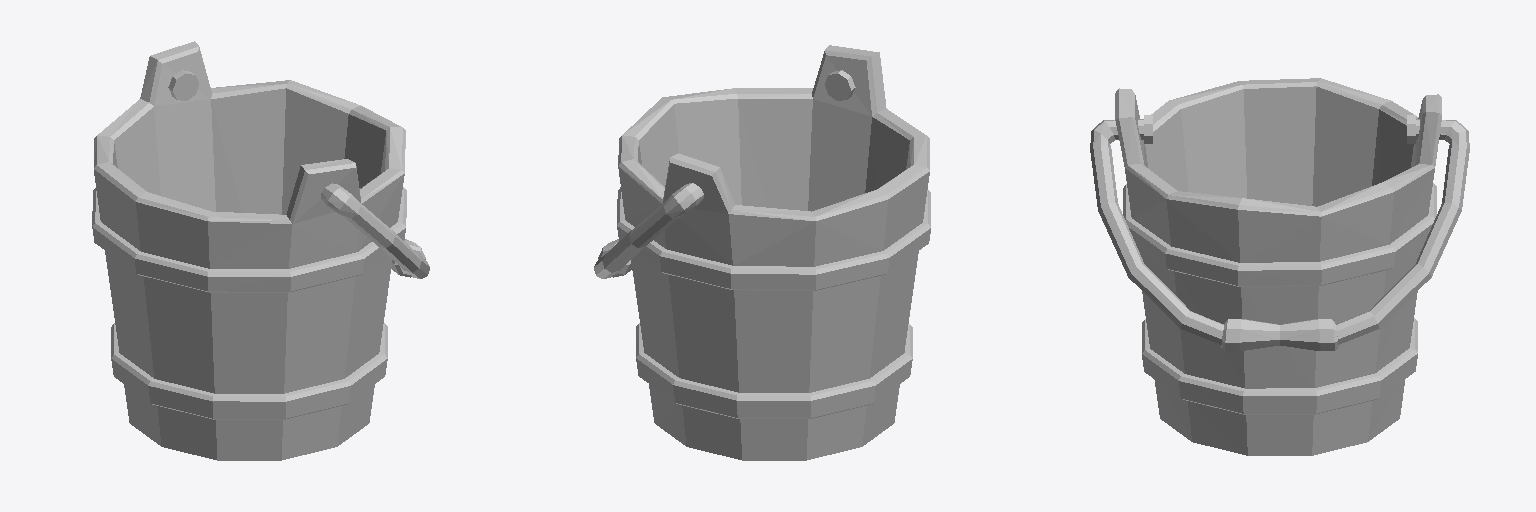
Rendered from Stylized_Bucket.obj.
3 renders of one model, left to right at view 1: azimuth 30°, elevation 25°; view 2: azimuth 150°, elevation 25°; view 3: azimuth 270°, elevation 25°, orthographic.
Visible parts, largest first — view 1: Bucket_Cylinder.011; view 2: Bucket_Cylinder.011; view 3: Bucket_Cylinder.011.
Part boxes in pixels (x1,y1,x2,y2): Bucket_Cylinder.011: (92,41,429,460); Bucket_Cylinder.011: (594,45,930,460); Bucket_Cylinder.011: (1090,78,1469,455).
Size of the model in its own units: 0.4411 by 0.4501 by 0.5089.